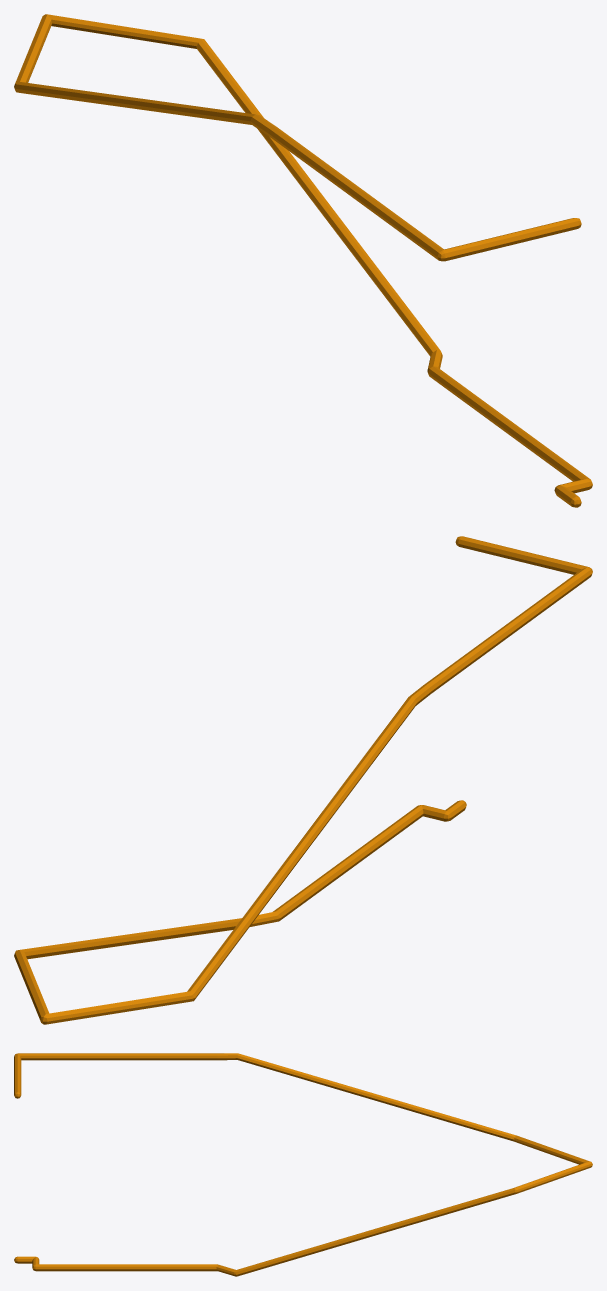
The picture shows the model from 3 angles, top to bottom: view 1: azimuth 30°, elevation 25°; view 2: azimuth 150°, elevation 25°; view 3: azimuth 270°, elevation 25°; orthographic projection. The views are drawn at different scales.
Size of the model in its own units: 360 by 520 by 1592.
